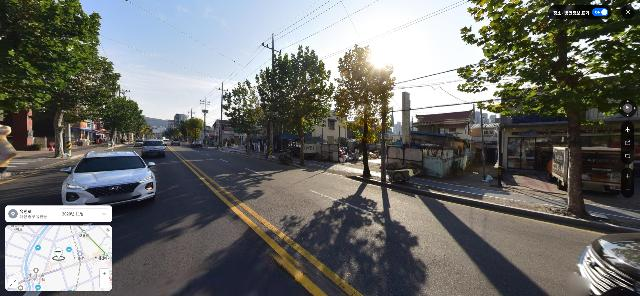other: (456, 0, 640, 220), (0, 0, 125, 159), (253, 44, 337, 166), (333, 44, 396, 178), (220, 76, 264, 154), (103, 93, 152, 145), (186, 118, 205, 144), (178, 121, 189, 143), (165, 127, 179, 140)
